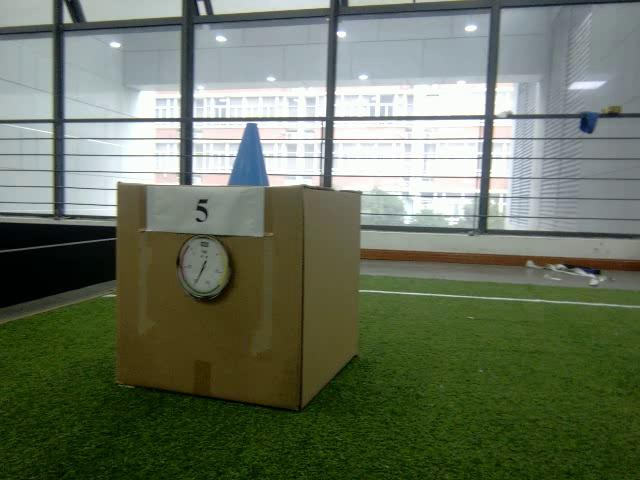5: (192, 197, 211, 224)
Dashboard: (176, 234, 231, 302)
blue_barrel: (227, 123, 269, 187)
ssi: (199, 240, 209, 250)
